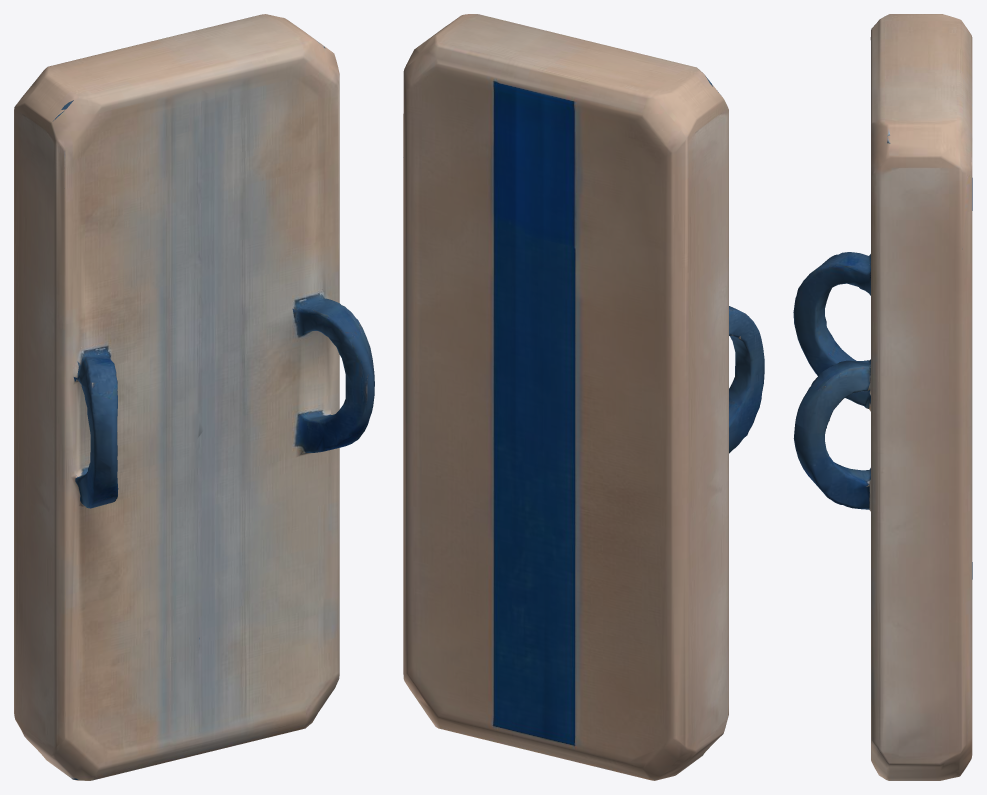
Rendered from halden_piece-DEx78S5O.glb.
3 views of the same model, side by side, from view 1: azimuth 30°, elevation 25°; view 2: azimuth 150°, elevation 25°; view 3: azimuth 270°, elevation 25° (orthographic). The views are drawn at different scales.
Visible parts, largest first — view 1: halden_piece; view 2: halden_piece; view 3: halden_piece.
Part boxes in pixels (<box>): halden_piece: <box>14,14,374,780</box>; halden_piece: <box>403,14,764,780</box>; halden_piece: <box>793,14,972,780</box>.
Size of the model in its own units: 0.65 by 1.5 by 0.3704.
1 material, 1 textured.
